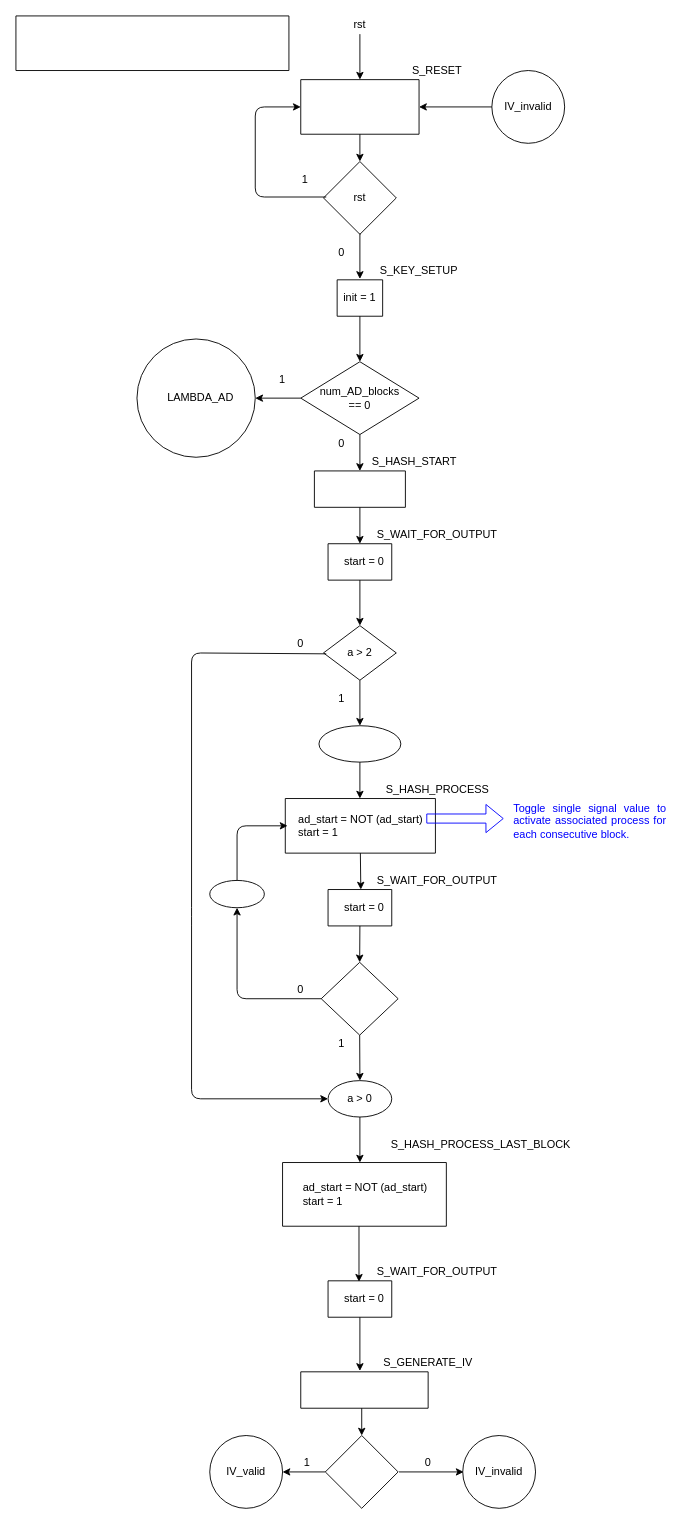
This 683x1524 diagram has some shape labels left out. The shapes that lost their labels are listed below. From the top down, each one's centre as x and y in pixels, then its label:
(152,43): Notations: a - Number of AD blocks of length 64 bits each
(359,106): ad_start = 0 pt_ct_start = 0
(359,488): ad_start = 1 start = 1
(359,743): j = 0
(236,894): j++
(359,998): j == a - 2
(361,1471): is_IV_valid
